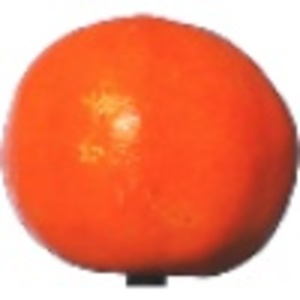tangerina: (1, 11, 300, 287)
